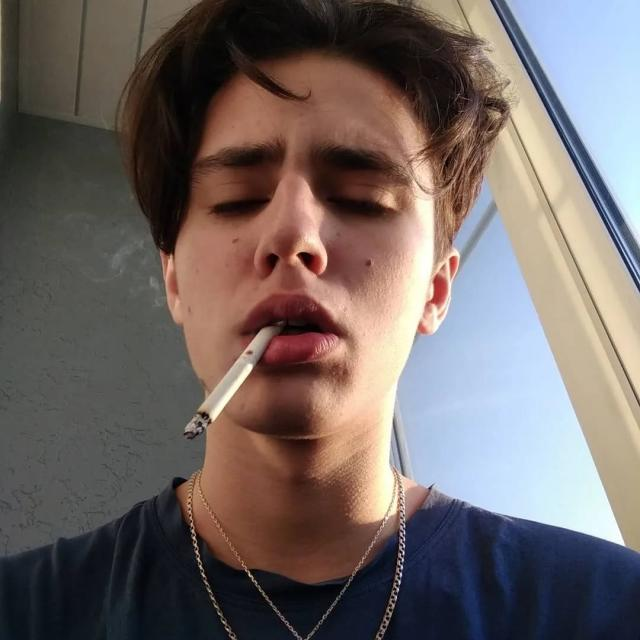smoke: (181, 322, 288, 444)
